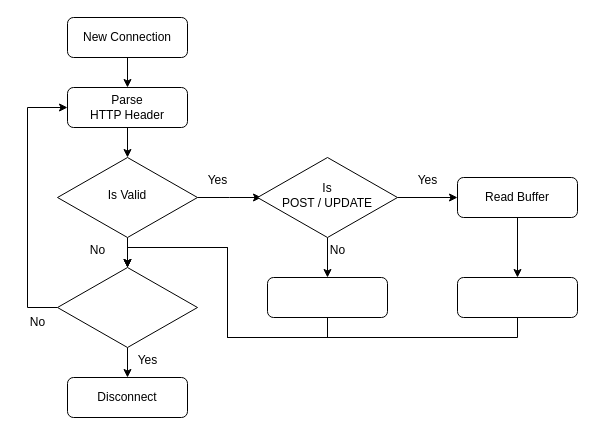
This 595x435 diagram has some shape labels left out. Here are the shapes that lost their labels. From the top down, the box of each, then its label:
(56, 266, 198, 348): Is Connection Closed
(266, 276, 388, 318): Process GET / DELETE
(456, 276, 578, 318): Process POST / UPDATE
